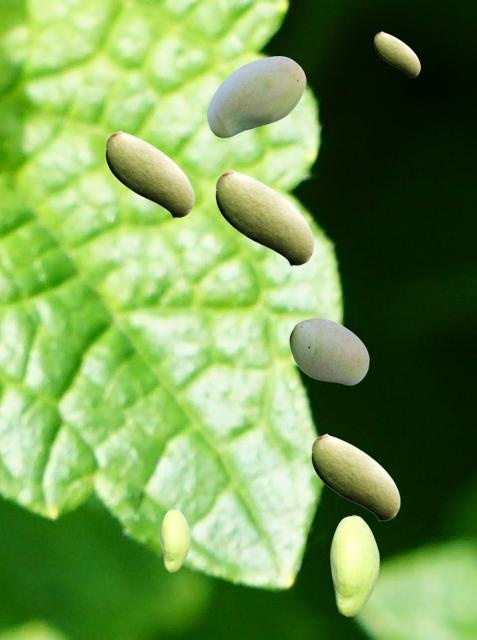green_mango: (215, 169, 313, 265), (207, 56, 305, 136), (311, 433, 399, 520), (105, 130, 193, 217), (289, 317, 368, 384), (330, 515, 378, 615), (374, 31, 419, 76), (160, 509, 189, 571)
